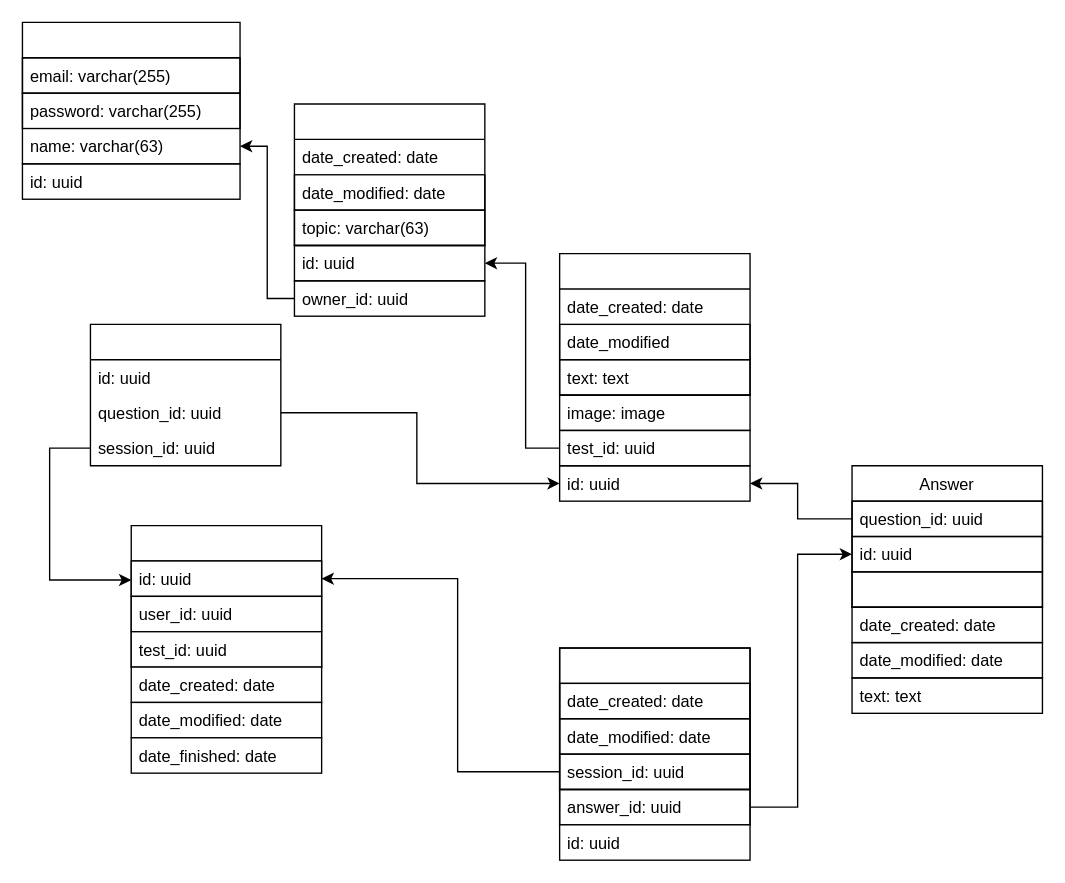
Image size: 1065x883. Some labels were removed from this diagram. The box of each missing label's shape, as (x1, y1, x2, y2) in pixels:
is_true: bool: (851, 571, 1042, 607)
Question: (558, 252, 750, 395)
Session: (130, 524, 322, 667)
SessionQuestion: (89, 323, 281, 466)
Test: (293, 103, 485, 245)
User: (21, 21, 240, 164)
UserAnswer: (558, 647, 750, 789)
